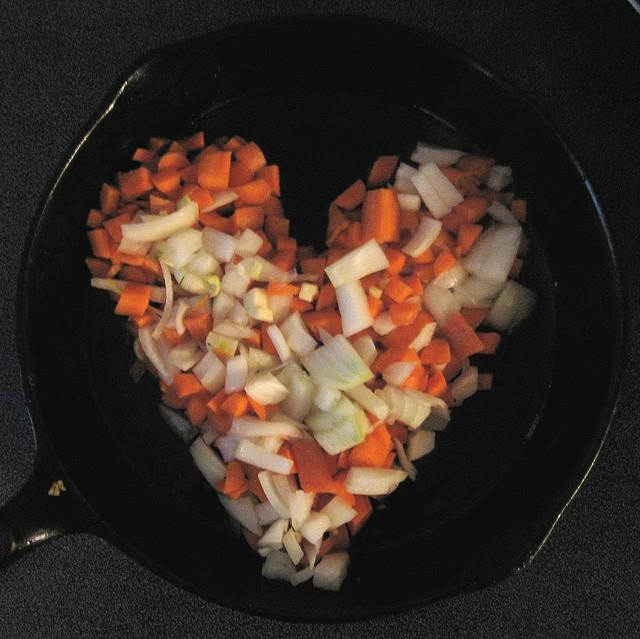carrot: (436, 313, 486, 364), (290, 440, 338, 493), (362, 189, 401, 244), (302, 306, 344, 344), (196, 150, 232, 192), (118, 166, 156, 202), (348, 434, 388, 468), (115, 280, 152, 316), (374, 347, 421, 374), (378, 324, 421, 351), (325, 201, 349, 249), (298, 537, 336, 567), (171, 372, 214, 398), (228, 206, 265, 236), (231, 178, 271, 205), (262, 214, 290, 252), (367, 156, 400, 188), (234, 142, 266, 175), (348, 494, 373, 536), (456, 154, 496, 180), (334, 179, 366, 211), (159, 378, 192, 409), (452, 196, 489, 223), (184, 394, 214, 426), (243, 464, 268, 502), (101, 212, 131, 243), (151, 166, 180, 198), (184, 312, 213, 344), (211, 476, 250, 499), (220, 392, 252, 420), (253, 165, 280, 198), (456, 223, 483, 256), (332, 470, 356, 507), (438, 165, 480, 185), (420, 339, 450, 366), (430, 227, 456, 258), (87, 228, 112, 260), (223, 458, 245, 494), (437, 210, 466, 237), (384, 278, 414, 304), (389, 302, 420, 327), (277, 439, 299, 474), (149, 189, 178, 215), (199, 211, 231, 234), (300, 259, 326, 287), (242, 525, 270, 551), (204, 385, 228, 415), (256, 194, 286, 218), (459, 308, 491, 330), (228, 162, 255, 188), (158, 152, 192, 172), (474, 330, 502, 354), (138, 340, 159, 372), (191, 144, 224, 164), (178, 162, 202, 189), (397, 275, 424, 299), (316, 282, 338, 311), (425, 369, 447, 398), (262, 322, 280, 357), (246, 392, 267, 422), (385, 422, 408, 449), (100, 184, 120, 215), (435, 250, 457, 278), (253, 228, 272, 260), (222, 136, 247, 160), (190, 186, 216, 209), (384, 248, 406, 274), (269, 252, 296, 272), (118, 266, 148, 284), (371, 424, 392, 449), (346, 222, 364, 251), (130, 310, 156, 330), (413, 262, 436, 284), (407, 247, 435, 265), (264, 282, 300, 296), (179, 131, 205, 150), (360, 271, 380, 295), (86, 259, 112, 277), (367, 296, 386, 320), (164, 327, 188, 346), (289, 295, 314, 313), (275, 234, 297, 254), (86, 210, 108, 230), (164, 140, 189, 157), (132, 148, 160, 163), (399, 210, 420, 229), (148, 136, 172, 152), (458, 177, 479, 195), (324, 452, 339, 475), (119, 253, 145, 266), (325, 249, 346, 265), (508, 258, 524, 278), (333, 228, 348, 249), (336, 449, 351, 470), (216, 202, 234, 217), (382, 452, 396, 469), (418, 374, 428, 391), (420, 280, 430, 292), (110, 210, 122, 217), (422, 366, 430, 376), (249, 405, 256, 415)
onion: (299, 325, 376, 392), (325, 238, 390, 290), (220, 255, 296, 298), (120, 202, 200, 242), (312, 402, 368, 456), (486, 280, 539, 334), (479, 224, 522, 286), (138, 324, 182, 384), (336, 278, 376, 338), (218, 490, 270, 536), (258, 412, 311, 454), (418, 161, 465, 208), (234, 438, 294, 474), (304, 391, 358, 431), (278, 310, 318, 360), (276, 370, 314, 422), (411, 172, 452, 219), (452, 276, 510, 309), (343, 466, 408, 495), (422, 283, 461, 331), (230, 414, 304, 439), (189, 436, 227, 484), (401, 216, 443, 258), (244, 370, 291, 407), (312, 550, 352, 592), (158, 403, 200, 443), (342, 384, 388, 420), (258, 470, 290, 520), (192, 350, 226, 395), (200, 226, 240, 264), (216, 433, 266, 463), (320, 495, 359, 532), (410, 141, 467, 166), (168, 226, 204, 264), (308, 374, 342, 414), (266, 322, 294, 370), (374, 384, 405, 425), (299, 511, 333, 546), (434, 256, 468, 290), (262, 550, 296, 583), (288, 490, 315, 531), (393, 438, 418, 482), (243, 287, 273, 322), (200, 187, 238, 214), (232, 228, 264, 260), (405, 429, 436, 462), (382, 361, 418, 389), (224, 354, 248, 394), (188, 245, 220, 275), (408, 322, 438, 353), (258, 518, 286, 550), (282, 526, 304, 566), (488, 200, 520, 227), (451, 366, 478, 398), (272, 473, 298, 504), (396, 390, 419, 424), (180, 270, 212, 294), (212, 319, 250, 339), (484, 166, 514, 191), (171, 334, 199, 360), (372, 310, 398, 336), (212, 290, 234, 320), (226, 296, 248, 326), (408, 404, 432, 431), (118, 238, 152, 257), (92, 276, 126, 294), (176, 298, 190, 336), (393, 176, 420, 195), (421, 414, 448, 432), (397, 192, 421, 212), (298, 282, 318, 303)
